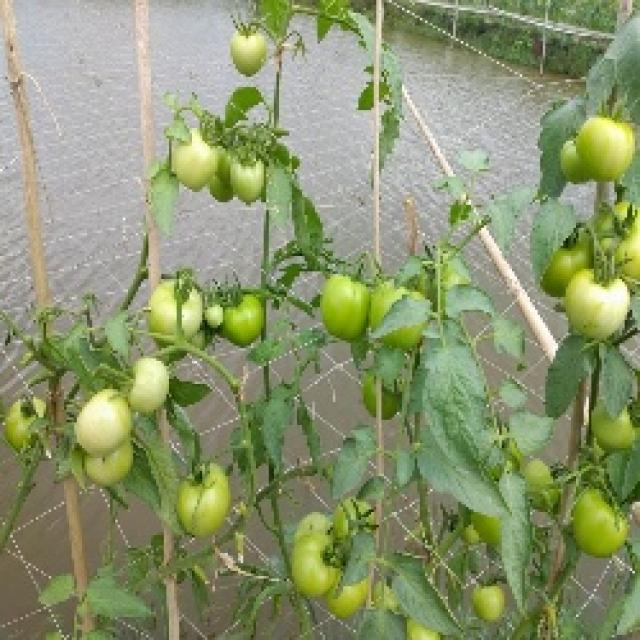tomato: (566, 265, 628, 346), (73, 389, 145, 455), (570, 113, 638, 182), (569, 492, 635, 561), (179, 468, 236, 537), (290, 531, 354, 592), (324, 273, 377, 339), (545, 231, 608, 286), (132, 355, 183, 421), (149, 280, 207, 338), (597, 201, 640, 278), (466, 575, 520, 633), (223, 22, 274, 81), (165, 135, 218, 189), (214, 288, 265, 341), (74, 447, 146, 481), (587, 396, 640, 442), (361, 377, 405, 426), (525, 456, 563, 512), (329, 495, 378, 538), (8, 394, 52, 441), (228, 159, 267, 207), (453, 514, 501, 549), (329, 581, 366, 617), (368, 273, 406, 307), (293, 512, 340, 539), (211, 148, 235, 198), (558, 140, 588, 175), (203, 300, 226, 330), (407, 623, 441, 640)
